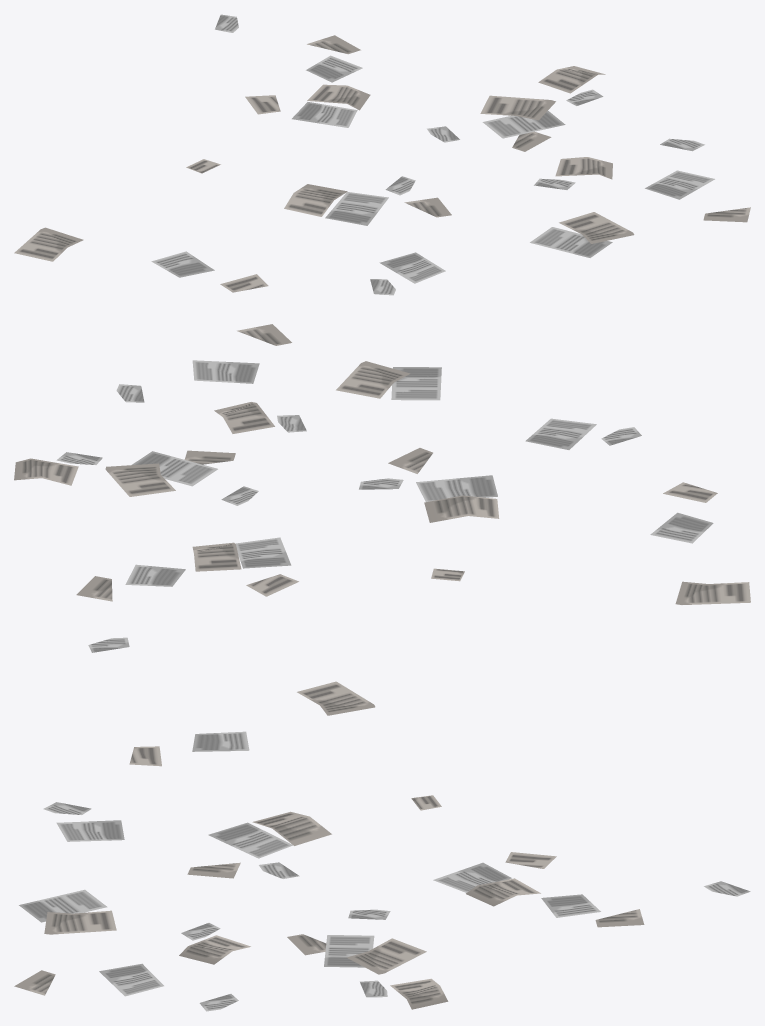
Rendered from SM_Prop_Papers_Large_02.fbx.
3 views of the same model, one above another, from view 1: azimuth 30°, elevation 25°; view 2: azimuth 150°, elevation 25°; view 3: azimuth 270°, elevation 25° (orthographic). The views are drawn at different scales.
Visible parts, largest first — view 1: SM_Prop_Papers_Large_02; view 2: SM_Prop_Papers_Large_02; view 3: SM_Prop_Papers_Large_02.
Boxes of the visible parts, x1,y1,x2,y2 form: SM_Prop_Papers_Large_02: (14, 14, 750, 295); SM_Prop_Papers_Large_02: (14, 324, 750, 652); SM_Prop_Papers_Large_02: (14, 681, 750, 1011).
Size of the model in its own units: 448 by 3.45 by 424.
